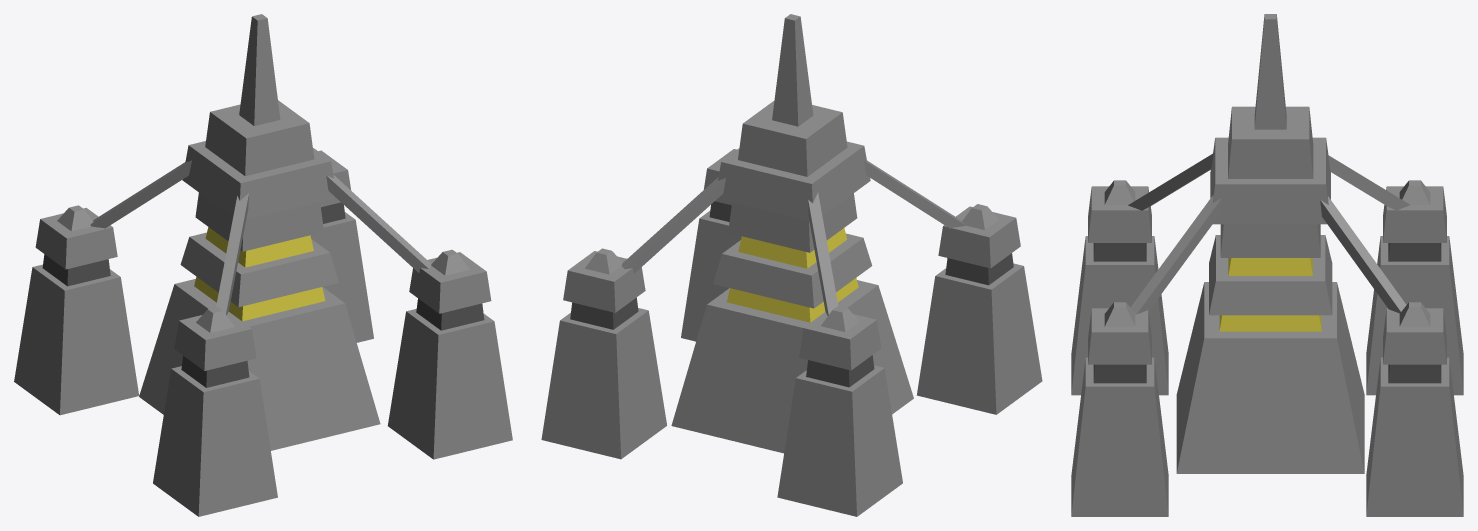
Rendered from SM_Portal.fbx.
3 renders of one model, left to right at view 1: azimuth 30°, elevation 25°; view 2: azimuth 150°, elevation 25°; view 3: azimuth 270°, elevation 25°, orthographic. The views are drawn at different scales.
Parts seen in each view (by area): view 1: Portal; view 2: Portal; view 3: Portal.
Part boxes in pixels (x1,y1,x2,y2): Portal: (14,14,512,516); Portal: (541,14,1042,516); Portal: (1071,14,1463,516).
Bounding box in the file's own units: 419 × 501 × 426.
